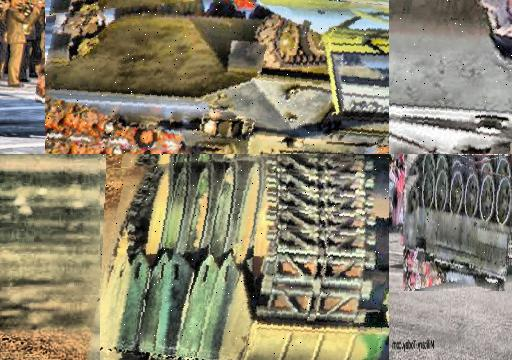tanks: (101, 155, 390, 360), (46, 1, 390, 155), (390, 1, 512, 155), (405, 165, 512, 291)
